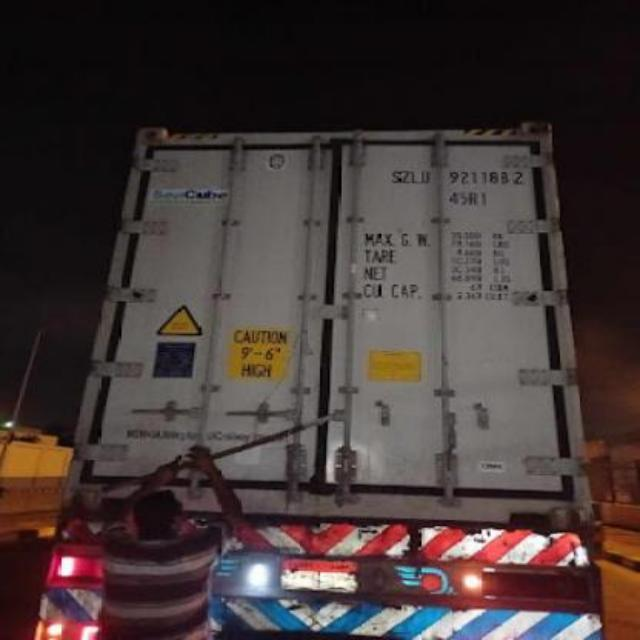1: (478, 165, 488, 189), (468, 167, 480, 183)
2: (511, 165, 524, 189), (458, 169, 468, 185)
8: (496, 165, 508, 188), (488, 167, 498, 190)
9: (446, 165, 458, 188)
L: (410, 165, 420, 189)
S: (388, 166, 400, 184)
U: (420, 165, 430, 189)
Z: (400, 162, 410, 186)
